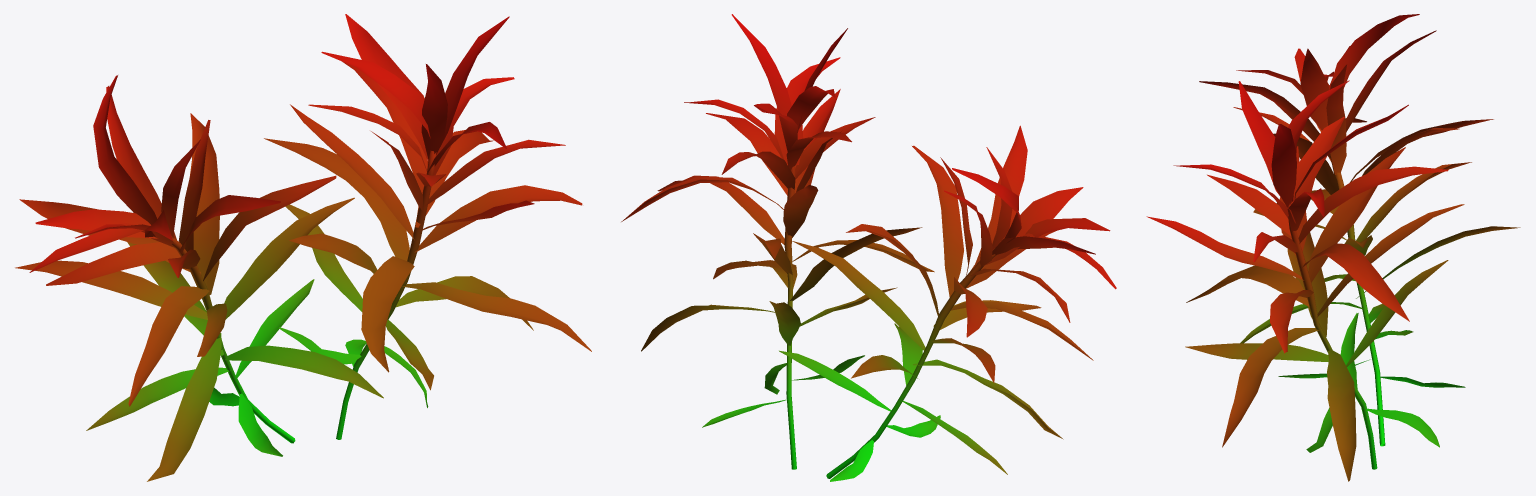
File: Butterfly Weed_LOD1_Var10.fbx
The picture shows the model from 3 angles, left to right: view 1: azimuth 30°, elevation 25°; view 2: azimuth 150°, elevation 25°; view 3: azimuth 270°, elevation 25°; orthographic projection. The views are drawn at different scales.
Visible parts, largest first — view 1: _6a7b_Var10_LOD1; view 2: _6a7b_Var10_LOD1; view 3: _6a7b_Var10_LOD1.
Boxes of the visible parts, left/top/right/bottom form: _6a7b_Var10_LOD1: left=15, top=14, right=591, bottom=481; _6a7b_Var10_LOD1: left=621, top=14, right=1116, bottom=481; _6a7b_Var10_LOD1: left=1146, top=14, right=1520, bottom=481.
Size of the model in its own units: 50.42 by 39.29 by 33.57.
